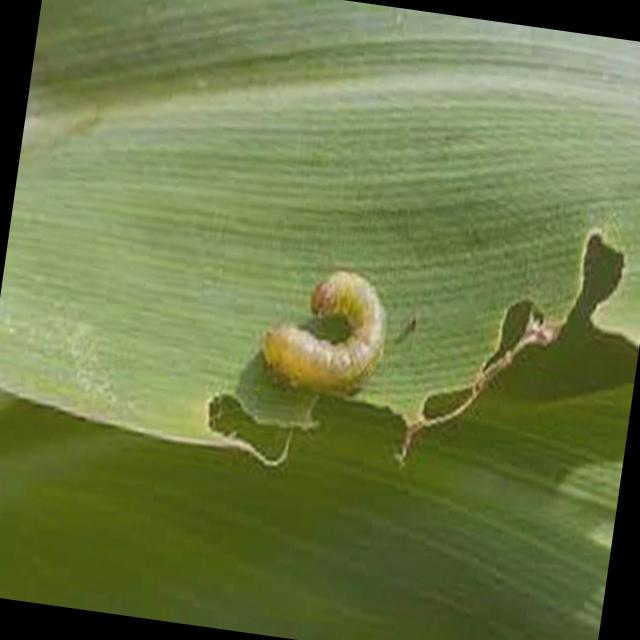pest: (255, 253, 404, 394)
